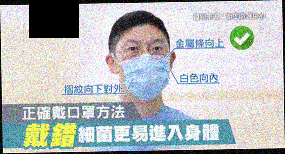with_mask: (116, 35, 170, 100)
